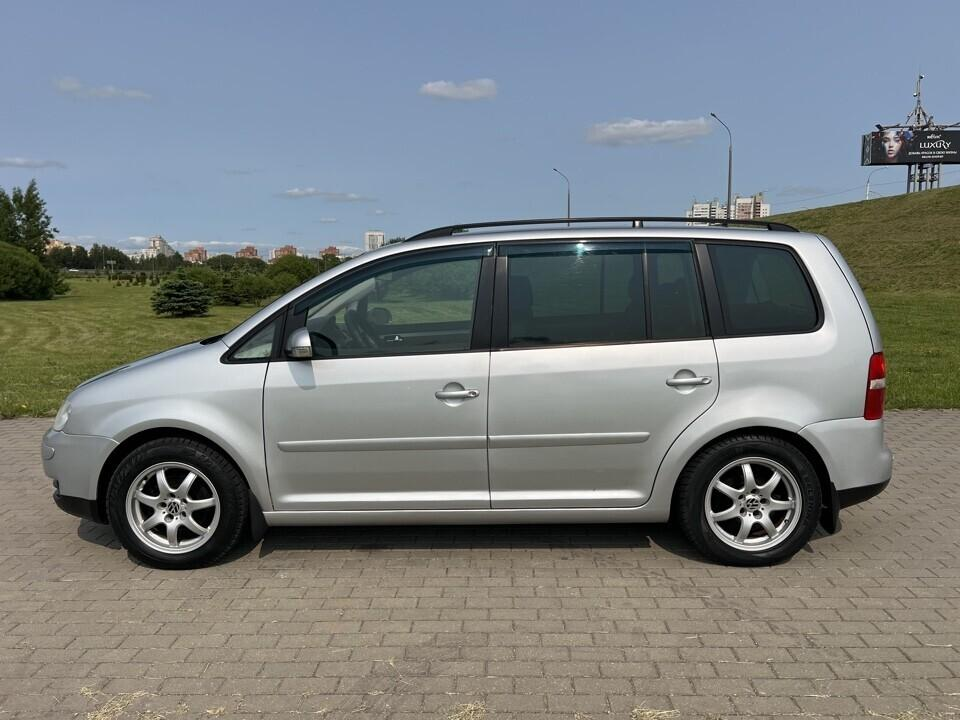Touran_2003-2006: (38, 220, 900, 573)
